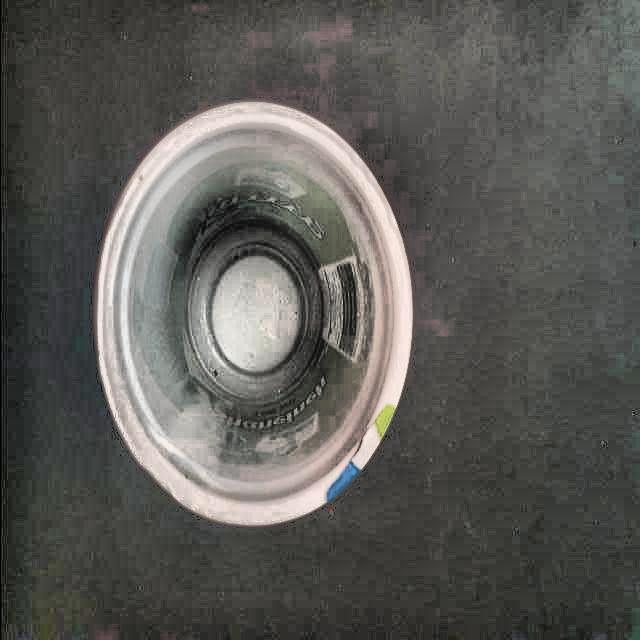plastic: (95, 101, 412, 526)
